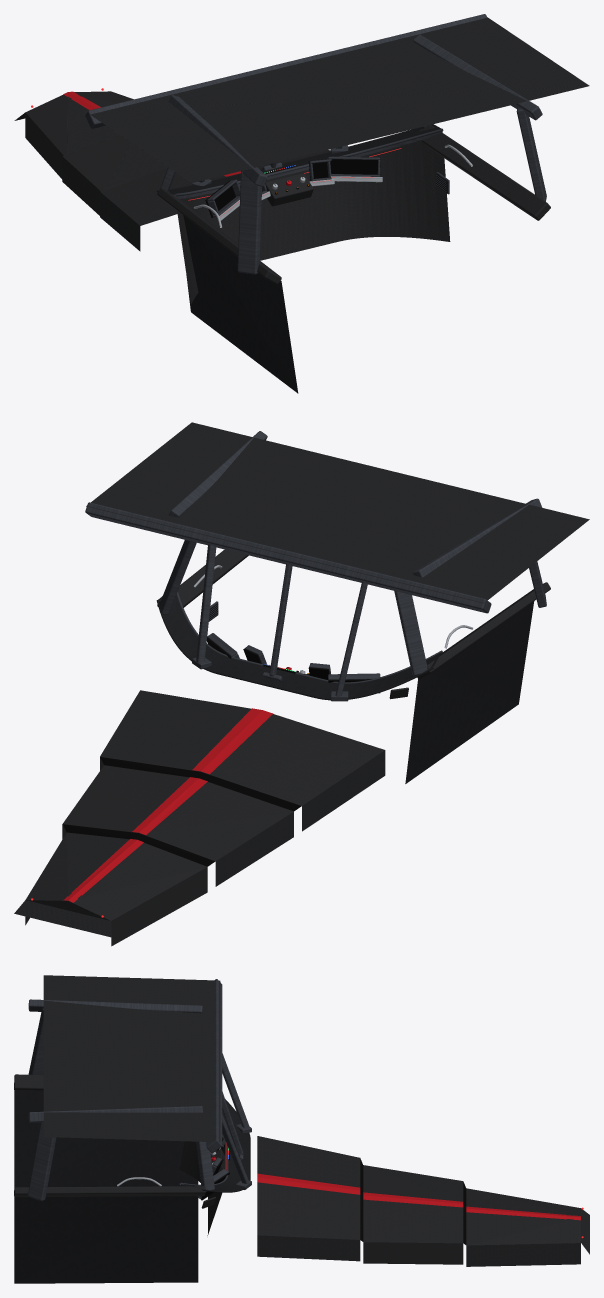
Rendered from cockpit_vector.glb.
3 views of the same model, one above another, from view 1: azimuth 30°, elevation 25°; view 2: azimuth 150°, elevation 25°; view 3: azimuth 270°, elevation 25° (orthographic). The views are drawn at different scales.
Parts seen in each view (by area): view 1: Frame_Roof, Dash_M_Carbon, Nose_M_CarbonNose, Side_L_M_Fabric, Side_L_M_AluDark, Nose_M_CarbonNoseSide, Side_R_M_Carbon, Side_R_M_AluDark, Dash_M_AluDark, Frame_M_AluDark, Dash_M_Fabric, Side_L_M_Carbon (+3 smaller); view 2: Frame_Roof, Nose_M_CarbonNose, Side_L_M_Fabric, Nose_M_CarbonNoseSide, Frame_M_AluDark, Dash_M_Fabric, Side_L_M_AluDark, Nose_M_Paint, Side_R_M_AluDark, Nose_M_Dark, Side_L_M_Carbon, Dash_M_AluDark (+2 smaller); view 3: Frame_Roof, Nose_M_CarbonNose, Side_R_M_Fabric, Side_L_M_Fabric, Nose_M_CarbonNoseSide, Side_R_M_AluDark, Side_L_M_AluDark, Nose_M_Paint, Side_R_M_Carbon, Frame_M_AluDark, Dash_M_Fabric, Dash_M_Carbon (+3 smaller).
Part boxes in pixels (<box>): Frame_Roof: <box>86,17,589,182</box>; Dash_M_Carbon: <box>177,140,450,304</box>; Nose_M_CarbonNose: <box>25,91,330,225</box>; Side_L_M_Fabric: <box>183,215,298,393</box>; Side_L_M_AluDark: <box>160,95,267,274</box>; Nose_M_CarbonNoseSide: <box>14,112,140,251</box>; Side_R_M_Carbon: <box>418,125,550,220</box>; Side_R_M_AluDark: <box>330,34,546,201</box>; Dash_M_AluDark: <box>174,128,443,217</box>; Frame_M_AluDark: <box>85,14,486,128</box>; Dash_M_Fabric: <box>156,124,441,194</box>; Side_L_M_Carbon: <box>157,187,281,284</box>; Frame_Roof: <box>86,422,589,603</box>; Nose_M_CarbonNose: <box>25,690,384,920</box>; Side_L_M_Fabric: <box>405,601,534,783</box>; Nose_M_CarbonNoseSide: <box>14,750,385,946</box>; Frame_M_AluDark: <box>85,502,491,613</box>; Dash_M_Fabric: <box>156,595,441,700</box>; Side_L_M_AluDark: <box>330,498,546,701</box>; Nose_M_Paint: <box>63,708,273,902</box>; Side_R_M_AluDark: <box>159,431,267,669</box>; Nose_M_Dark: <box>62,757,301,866</box>; Side_L_M_Carbon: <box>389,582,550,699</box>; Dash_M_AluDark: <box>176,591,442,683</box>; Frame_Roof: <box>43,975,220,1142</box>; Nose_M_CarbonNose: <box>257,1136,580,1245</box>; Side_R_M_Fabric: <box>14,1196,198,1283</box>; Side_L_M_Fabric: <box>14,1090,198,1187</box>; Nose_M_CarbonNoseSide: <box>257,1208,589,1266</box>; Side_R_M_AluDark: <box>28,1106,251,1200</box>; Side_L_M_AluDark: <box>28,999,251,1132</box>; Nose_M_Paint: <box>257,1173,580,1220</box>; Side_R_M_Carbon: <box>14,1186,215,1208</box>; Frame_M_AluDark: <box>206,979,222,1153</box>; Dash_M_Fabric: <box>183,1099,250,1192</box>; Dash_M_Carbon: <box>179,1141,225,1235</box>.
Size of what is drawn, in the model's own units: 2.6 by 1.43 by 3.91.
39 materials, 6 textured.
